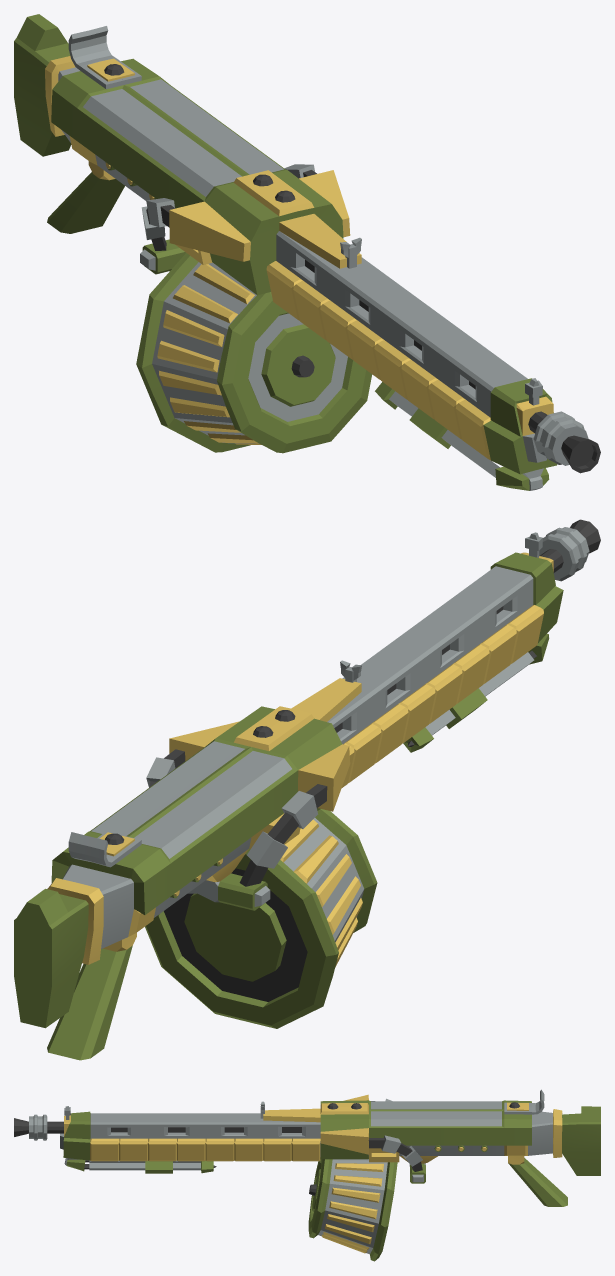
File: Gun-2.fbx
The picture shows the model from 3 angles, top to bottom: view 1: azimuth 30°, elevation 25°; view 2: azimuth 150°, elevation 25°; view 3: azimuth 270°, elevation 25°; orthographic projection. The views are drawn at different scales.
Visible parts, largest first — view 1: Gun_2; view 2: Gun_2; view 3: Gun_2.
Boxes of the visible parts, left/top/right/bottom form: Gun_2: left=14, top=14, right=600, bottom=490; Gun_2: left=14, top=519, right=600, bottom=1060; Gun_2: left=14, top=1089, right=600, bottom=1261.
Size of the model in its own units: 106 by 152 by 508.
